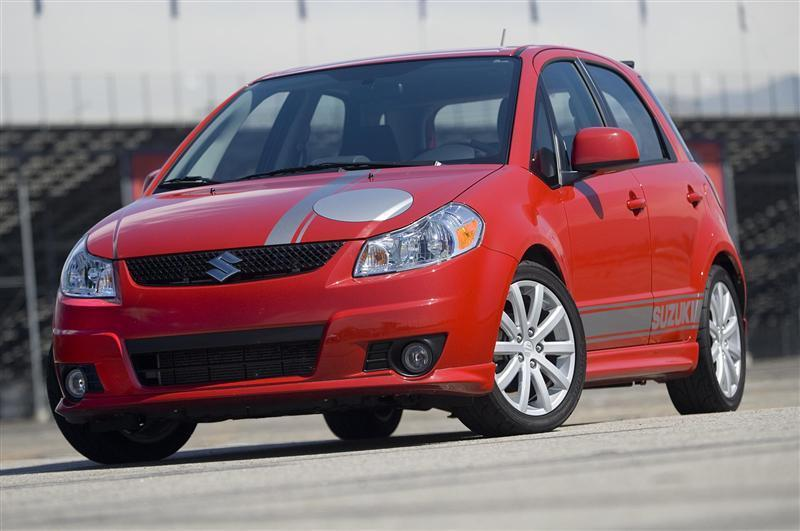suzuki: (201, 245, 245, 284)
